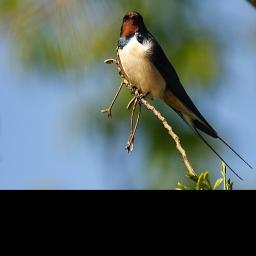Swallow: (118, 10, 253, 181)
